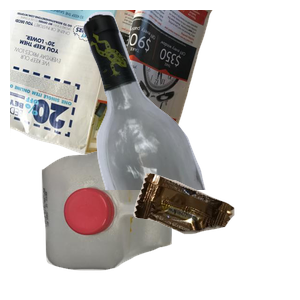glass: (81, 10, 300, 190)
paper: (10, 10, 215, 186)
plastic: (39, 149, 203, 300)
trash: (131, 171, 300, 300)
